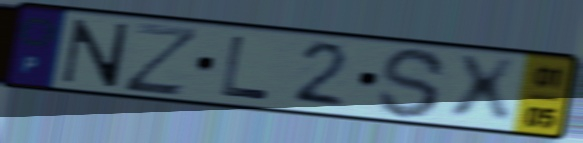2: (287, 39, 355, 114)
L: (217, 33, 272, 103)
N: (57, 16, 134, 90)
S: (375, 45, 450, 121)
X: (447, 53, 520, 126)
Z: (120, 20, 204, 99)
